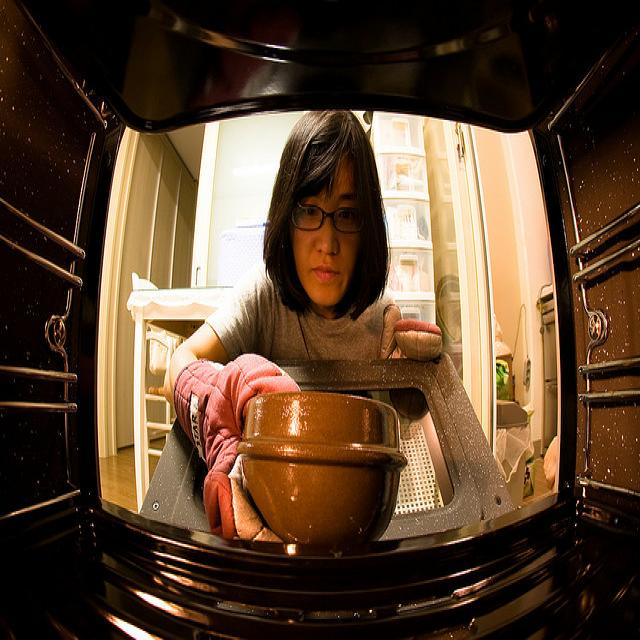chair: (133, 270, 187, 496)
dining table: (126, 287, 234, 515)
